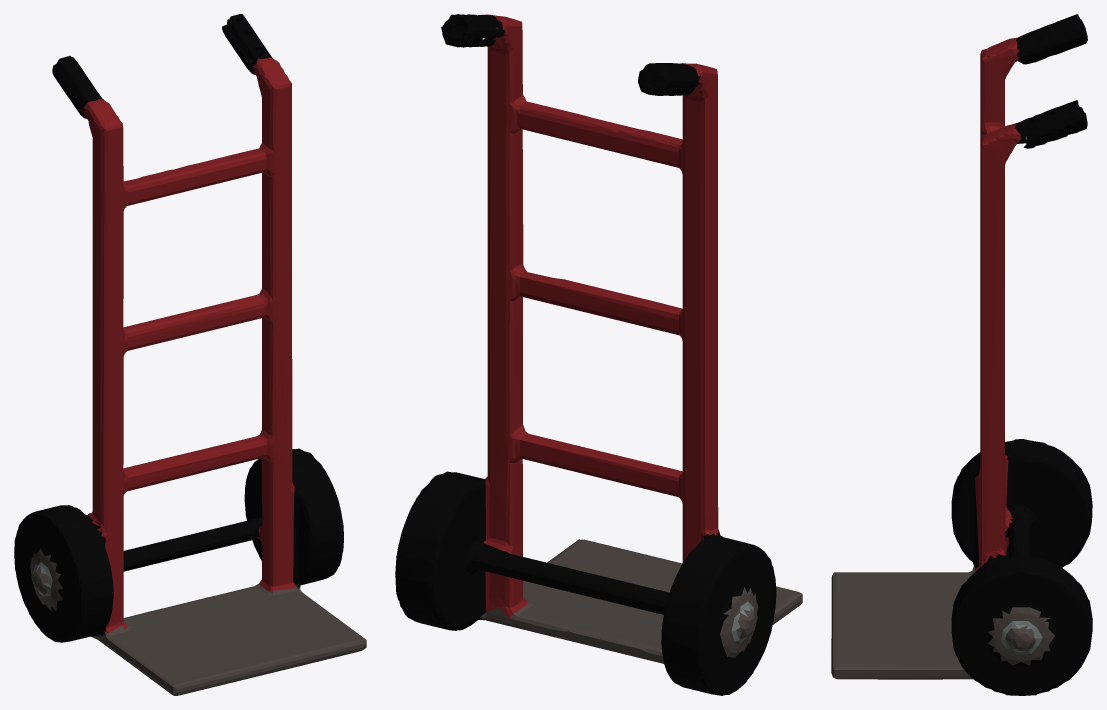
The model's file is SM_Carretilla_voxel.fbx.
3 views of the same model, side by side, from view 1: azimuth 30°, elevation 25°; view 2: azimuth 150°, elevation 25°; view 3: azimuth 270°, elevation 25° (orthographic). The views are drawn at different scales.
Parts seen in each view (by area): view 1: SM_Carretilla_voxel; view 2: SM_Carretilla_voxel; view 3: SM_Carretilla_voxel.
Boxes of the visible parts, left/top/right/bottom form: SM_Carretilla_voxel: left=14, top=14, right=366, bottom=695; SM_Carretilla_voxel: left=395, top=14, right=802, bottom=695; SM_Carretilla_voxel: left=831, top=14, right=1092, bottom=695.
Size of the model in its own units: 0.6535 by 1.2 by 0.496.
1 material, 1 textured.
